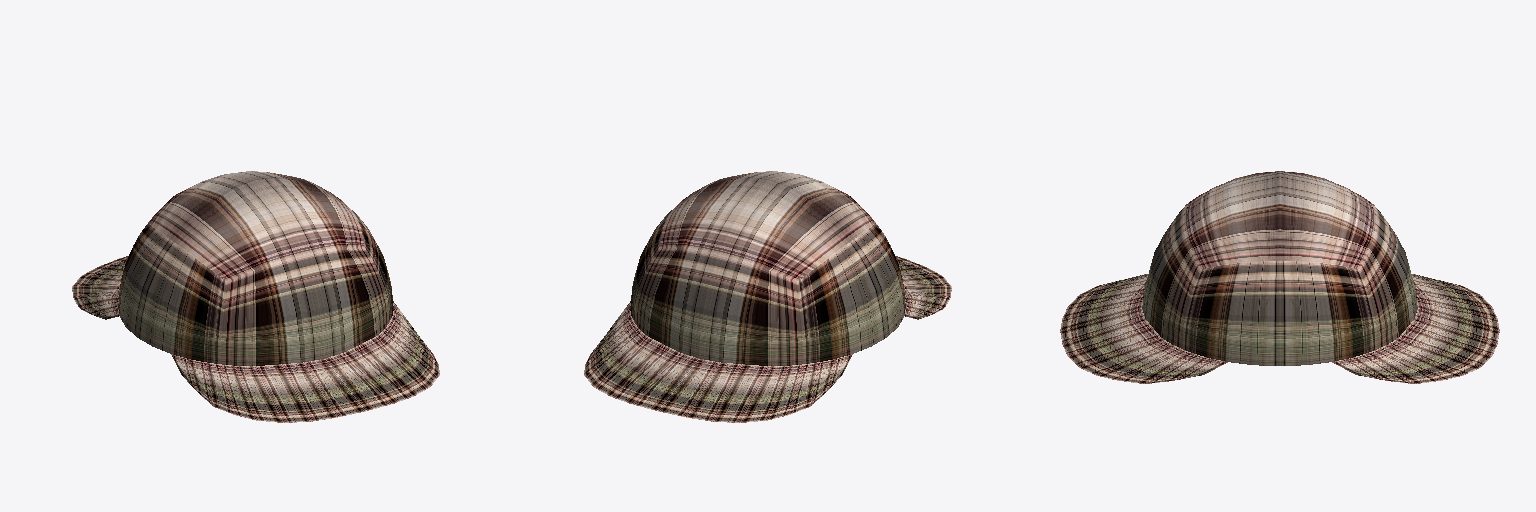
3 views of the same model, side by side, from view 1: azimuth 30°, elevation 25°; view 2: azimuth 150°, elevation 25°; view 3: azimuth 270°, elevation 25° (orthographic).
Visible parts, largest first — view 1: pCube1; view 2: pCube1; view 3: pCube1.
Part boxes in pixels (left/top/right/bottom): pCube1: left=72, top=171, right=439, bottom=422; pCube1: left=584, top=171, right=951, bottom=422; pCube1: left=1060, top=171, right=1499, bottom=383.
Bounding box in the file's own units: 2.2 × 1.33 × 3.51.
Materials: 1 (1 with a texture image).